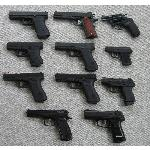Pistol: (25, 109, 72, 142), (84, 109, 126, 143), (3, 70, 47, 102), (56, 72, 100, 104), (102, 76, 136, 106)
